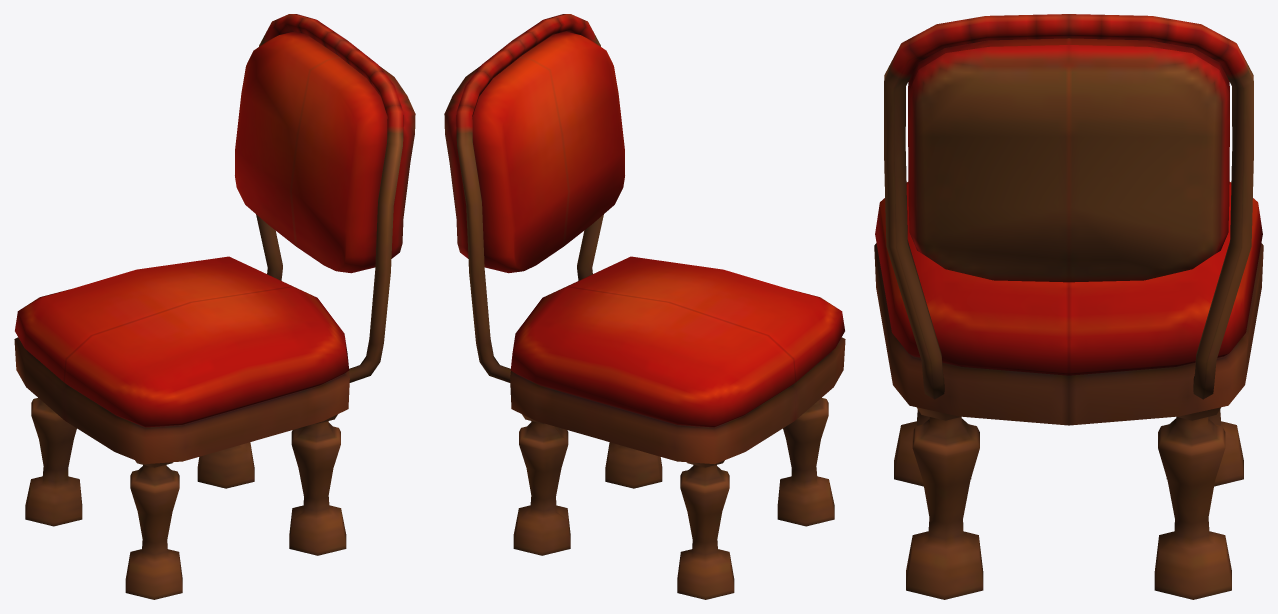
The model's file is Chair_01.gltf.
3 renders of one model, left to right at view 1: azimuth 30°, elevation 25°; view 2: azimuth 150°, elevation 25°; view 3: azimuth 270°, elevation 25°, orthographic. The views are drawn at different scales.
Parts seen in each view (by area): view 1: Chair_01; view 2: Chair_01; view 3: Chair_01.
Part boxes in pixels (x1,y1,x2,y2): Chair_01: (14, 14, 415, 599); Chair_01: (444, 14, 845, 599); Chair_01: (874, 14, 1263, 599).
Size of the model in its own units: 28.08 by 39.92 by 23.02.
1 material, 1 textured.
